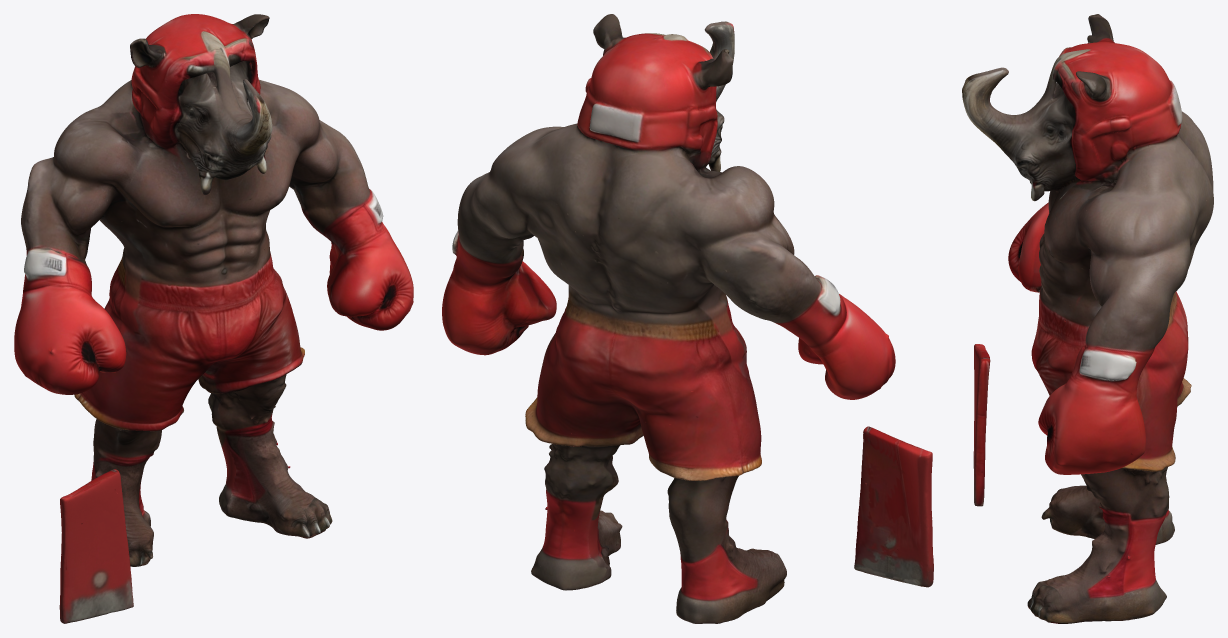
Rendered from rhino_boxing_brainrot.glb.
3 renders of one model, left to right at view 1: azimuth 30°, elevation 25°; view 2: azimuth 150°, elevation 25°; view 3: azimuth 270°, elevation 25°, orthographic. The views are drawn at different scales.
Parts seen in each view (by area): view 1: Object_5, Object_6, Object_7, Object_8; view 2: Object_8, Object_7, Object_5, Object_6; view 3: Object_7, Object_6, Object_5, Object_8.
Boxes of the visible parts, box(x1,y1,x2,y2) form: Object_5: box(15, 33, 413, 623); Object_6: box(14, 14, 411, 551); Object_7: box(16, 14, 376, 525); Object_8: box(19, 16, 376, 524); Object_8: box(442, 25, 862, 623); Object_7: box(445, 36, 867, 623); Object_5: box(507, 21, 933, 587); Object_6: box(442, 14, 888, 608); Object_7: box(1088, 26, 1192, 620); Object_6: box(1050, 14, 1150, 623); Object_5: box(962, 43, 1096, 623); Object_8: box(1093, 14, 1213, 617).
Bounding box in the file's own units: 1.62 × 2 × 0.8701.
Materials: 1 (1 with a texture image).
